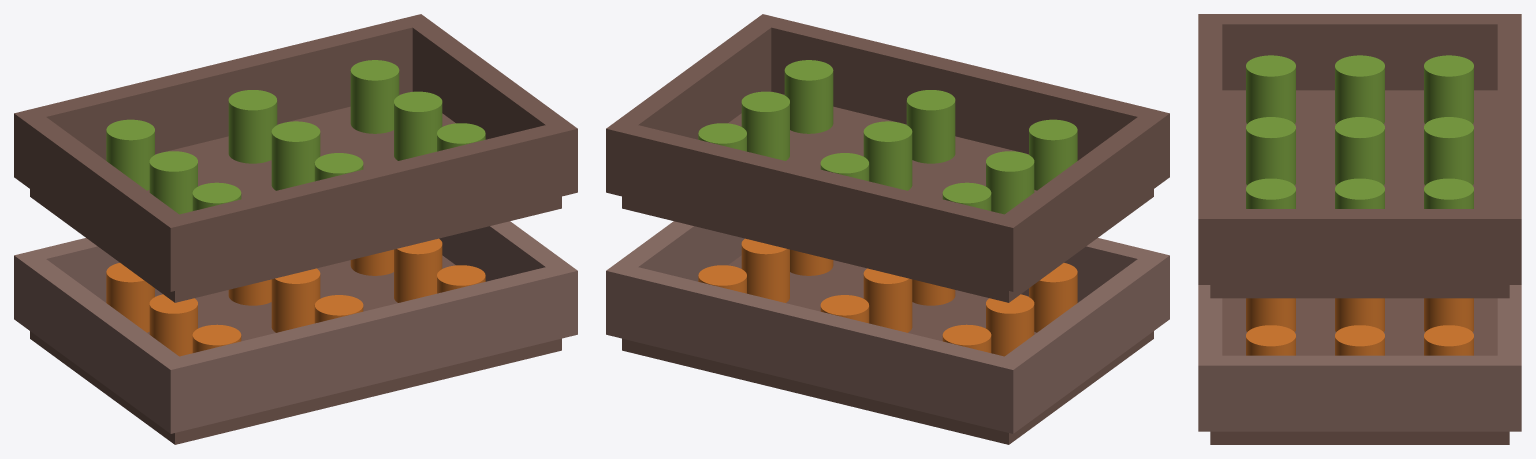
The model's file is produce_crate.glb.
3 views of the same model, side by side, from view 1: azimuth 30°, elevation 25°; view 2: azimuth 150°, elevation 25°; view 3: azimuth 270°, elevation 25° (orthographic). The views are drawn at different scales.
Parts seen in each view (by area): view 1: crate_wall_t_0, crate_wall_t_1, crate_wall_b_1, crate_wall_l_1, crate_wall_l_0, crate_floor_1, crate_floor_0, crate_wall_r_1, crate_wall_r_0, crate_wall_b_0, fruit_1_8, fruit_1_7 (+16 smaller); view 2: crate_wall_b_1, crate_wall_b_0, crate_wall_t_1, crate_wall_l_0, crate_wall_l_1, crate_floor_1, crate_floor_0, crate_wall_r_1, crate_wall_r_0, crate_wall_t_0, fruit_1_2, fruit_1_1 (+16 smaller); view 3: crate_wall_r_0, crate_wall_r_1, crate_floor_1, crate_wall_l_1, crate_floor_0, crate_wall_b_1, crate_wall_t_1, crate_wall_b_0, fruit_1_0, fruit_1_3, fruit_1_6, fruit_1_1 (+12 smaller).
Part boxes in pixels (box(x1,y1,x2,y2)): crate_wall_t_0: box(159, 264, 570, 428); crate_wall_t_1: box(159, 120, 577, 290); crate_wall_b_1: box(14, 14, 432, 184); crate_wall_l_1: box(14, 108, 190, 291); crate_wall_l_0: box(14, 253, 190, 433); crate_floor_1: box(30, 91, 561, 302); crate_floor_0: box(30, 255, 561, 444); crate_wall_r_1: box(402, 14, 577, 197); crate_wall_r_0: box(439, 221, 577, 339); crate_wall_b_0: box(14, 238, 162, 326); fruit_1_8: box(350, 60, 399, 133); fruit_1_7: box(228, 90, 277, 163); crate_wall_b_1: box(606, 120, 1024, 291); crate_wall_b_0: box(613, 263, 1024, 433); crate_wall_t_1: box(752, 15, 1169, 185); crate_wall_l_0: box(993, 253, 1166, 433); crate_wall_l_1: box(993, 108, 1162, 291); crate_floor_1: box(622, 91, 1153, 302); crate_floor_0: box(622, 255, 1153, 444); crate_wall_r_1: box(606, 14, 782, 197); crate_wall_r_0: box(606, 221, 744, 339); crate_wall_t_0: box(1021, 238, 1169, 327); fruit_1_2: box(784, 60, 833, 133); fruit_1_1: box(906, 90, 955, 163); crate_wall_r_0: box(1198, 355, 1521, 431); crate_wall_r_1: box(1198, 209, 1521, 284); crate_floor_1: box(1210, 90, 1509, 298); crate_wall_l_1: box(1198, 14, 1521, 90); crate_floor_0: box(1210, 298, 1509, 444); crate_wall_b_1: box(1497, 14, 1521, 284); crate_wall_t_1: box(1198, 14, 1222, 284); crate_wall_b_0: box(1497, 285, 1521, 431); fruit_1_0: box(1246, 55, 1295, 123); fruit_1_3: box(1335, 55, 1384, 123); fruit_1_6: box(1424, 55, 1473, 123); fruit_1_1: box(1246, 117, 1295, 185).
Bounding box in the file's own units: 0.6 × 0.315 × 0.4.
